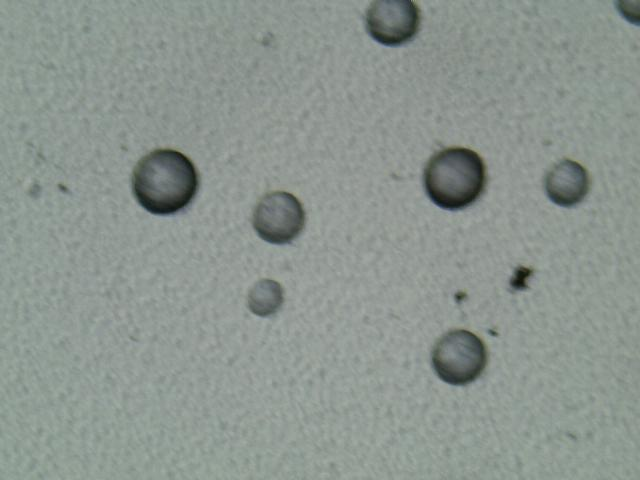radon: (127, 145, 203, 213), (421, 142, 488, 213), (248, 180, 311, 246), (539, 153, 592, 212)
